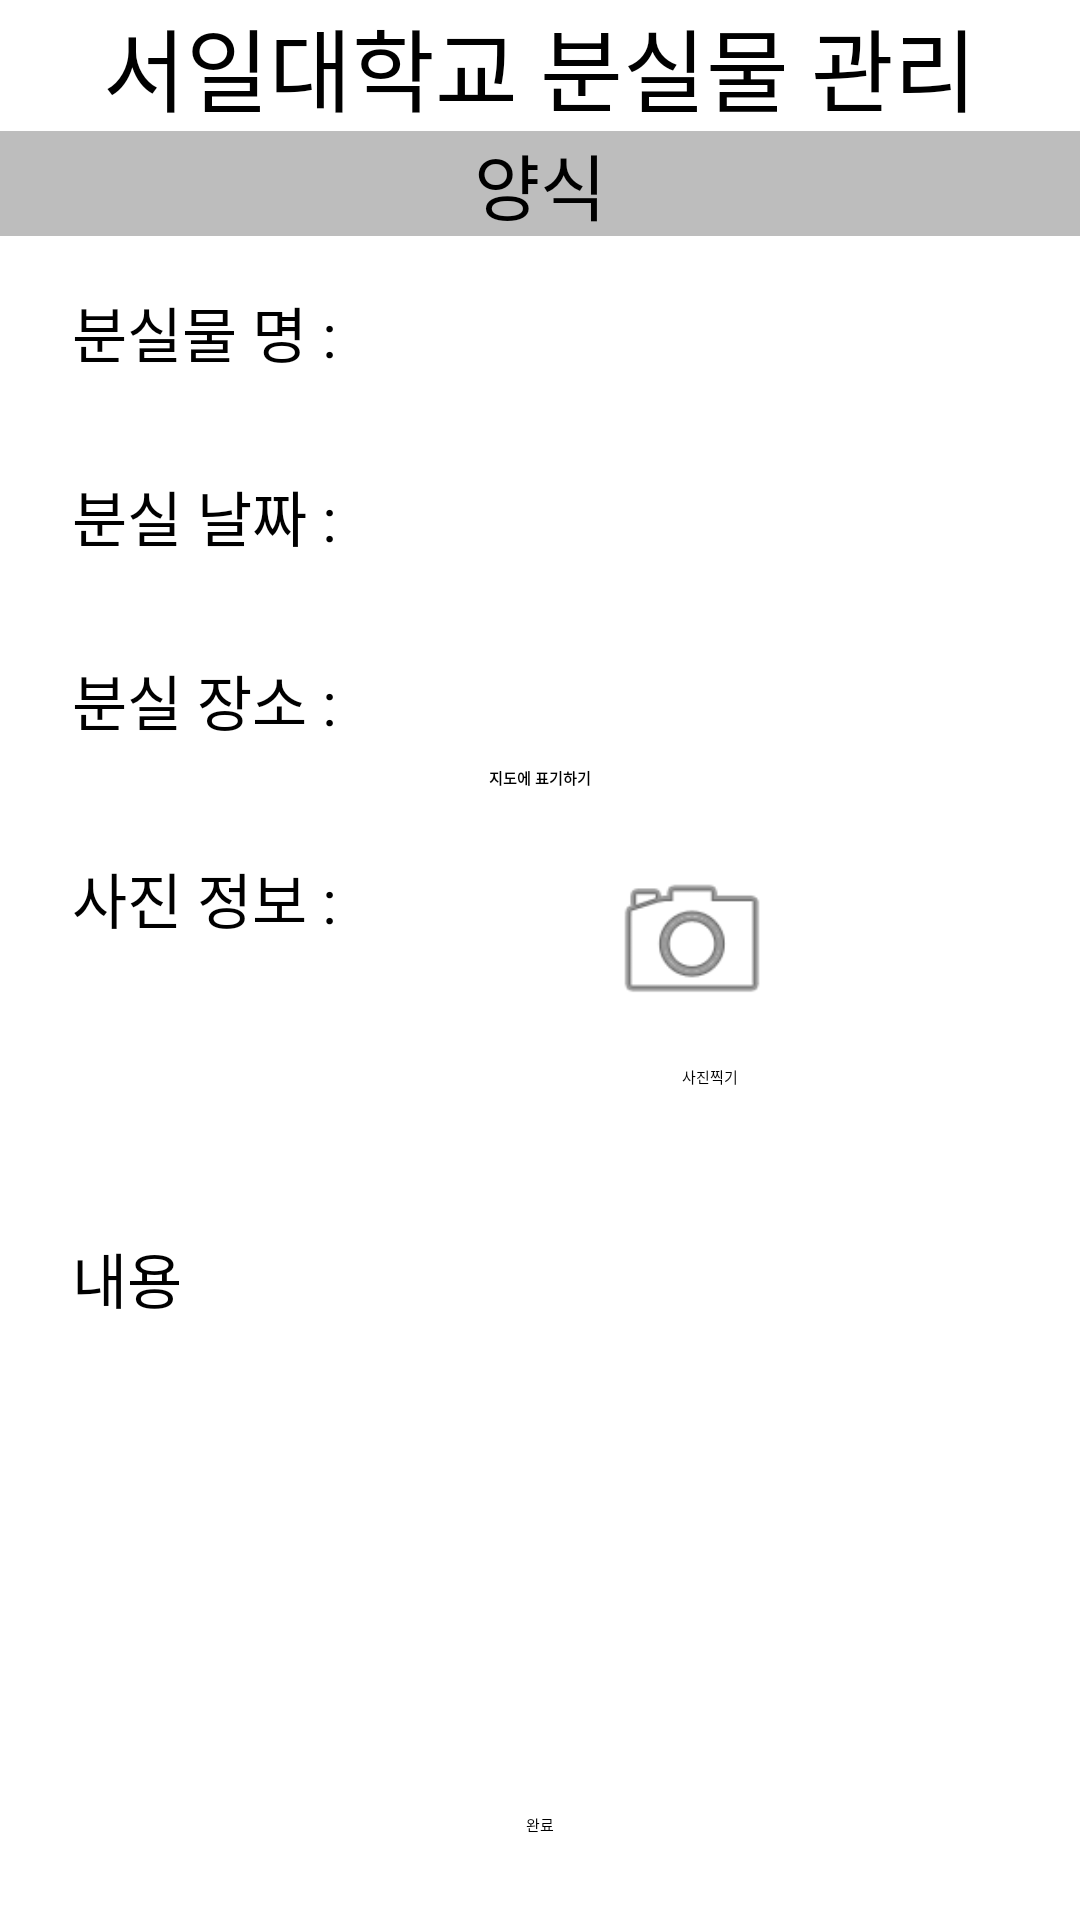

Icons on this 1080 × 1920 Android screen, each with the point to tap as (x,y):
camera: (692,938)
